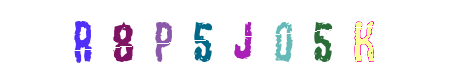5: (176, 0, 256, 80), (236, 0, 316, 80)
8: (83, 0, 163, 80)
J: (196, 0, 276, 80)
K: (323, 0, 403, 80)
O: (223, 0, 303, 80)
P: (173, 0, 253, 80)
R: (42, 0, 122, 80)
